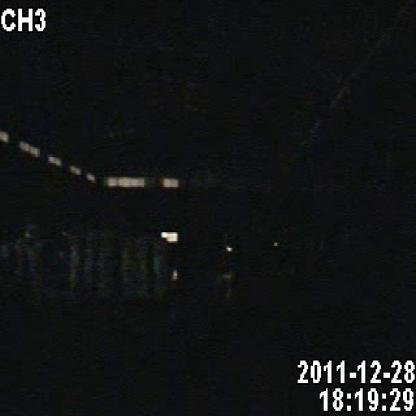fire: (155, 219, 188, 256)
